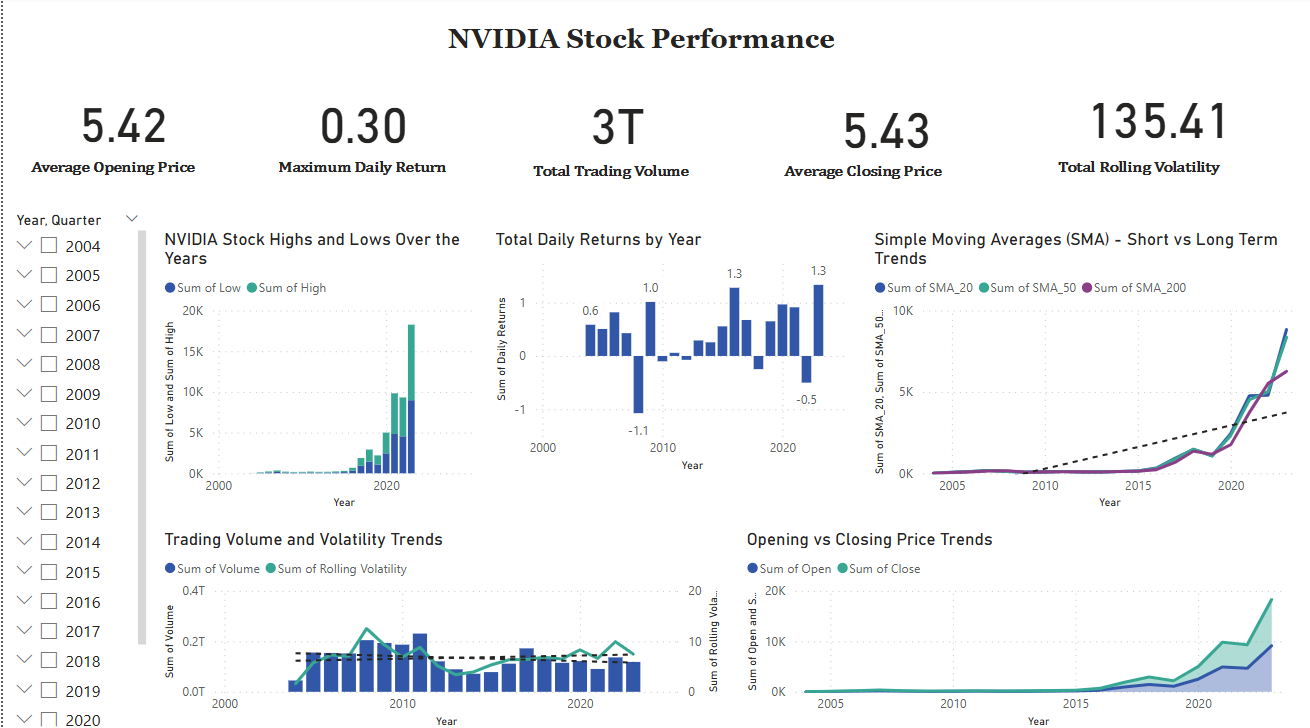

This screenshot's page, from the dashboard's own definition file:
{"tool":"powerbi","page":{"name":"Page 1","canvas":[1280,720],"ordinal":0},"visuals":[{"type":"card","fields":{"Values":["Avg(nvidia_dashboard.Close)"]},"box":[813.1,90.4,101.2,70.7],"z":0},{"type":"card","fields":{"Values":["Avg(nvidia_dashboard.Open)"]},"box":[57.3,89.6,120,62.7],"z":1000},{"type":"card","fields":{"Values":["Sum(nvidia_dashboard.Volume)"]},"box":[540,87.8,121.8,69],"z":2000},{"type":"lineChart","title":" Simple Moving Averages (SMA) - Short vs Long Term Trends","fields":{"Category":["nvidia_dashboard.Date.Variation.Date Hierarchy.Year"],"Y":["Sum(nvidia_dashboard.SMA_20)","Sum(nvidia_dashboard.SMA_50)","Sum(nvidia_dashboard.SMA_200)"]},"box":[847.2,227.5,426.3,279.4],"z":3000},{"type":"lineClusteredColumnComboChart","title":" Trading Volume and Volatility Trends","fields":{"Category":["nvidia_dashboard.Date.Variation.Date Hierarchy.Year"],"Y":["Sum(nvidia_dashboard.Volume)"],"Y2":["Sum(nvidia_dashboard.Rolling Volatility)"]},"box":[153.1,520.3,553.4,199.7],"z":4000},{"type":"stackedAreaChart","title":"Opening vs Closing Price Trends","fields":{"Category":["nvidia_dashboard.Date.Variation.Date Hierarchy.Year"],"Y":["Sum(nvidia_dashboard.Open)","Sum(nvidia_dashboard.Close)"]},"box":[722.7,520.3,536.4,199.7],"z":5000},{"type":"lineStackedColumnComboChart","title":"NVIDIA Stock Highs and Lows Over the Years","fields":{"Y":["Sum(nvidia_dashboard.Low)","Sum(nvidia_dashboard.High)"],"Category":["nvidia_dashboard.Date.Variation.Date Hierarchy.Year"]},"box":[153.1,227.5,323.3,279.4],"z":6000},{"type":"lineClusteredColumnComboChart","title":"Total  Daily Returns by Year","fields":{"Y":["Sum(nvidia_dashboard.Daily Returns)"],"Category":["nvidia_dashboard.Date.Variation.Date Hierarchy.Year"]},"box":[476.4,227.5,363.6,242.7],"z":7000},{"type":"card","fields":{"Values":["Sum(nvidia_dashboard.Rolling Volatility)"]},"box":[1047.8,82.4,165.7,69.9],"z":8000},{"type":"slicer","fields":{"Values":["nvidia_dashboard.Date.Variation.Date Hierarchy.Year","nvidia_dashboard.Date.Variation.Date Hierarchy.Quarter"]},"box":[0,206,145.1,514],"z":9000},{"type":"textbox","box":[362.7,22.4,699.4,51],"z":10000},{"type":"card","fields":{"Values":["Max(nvidia_dashboard.Daily Returns)"]},"box":[293.4,90.5,118.6,61.1],"z":11000},{"type":"textbox","box":[21.5,152.2,207.8,32.2],"z":12000},{"type":"textbox","box":[264,152.8,218.8,33],"z":13000},{"type":"textbox","box":[513.1,156.7,187.2,34],"z":14000},{"type":"textbox","box":[758.5,156.7,191.6,34.9],"z":15000},{"type":"textbox","box":[1027.2,153.1,193.4,35.8],"z":16000}]}

Visuals, with their boxes in screenshot pixels (x1, y1, x2, y2), scaled from the page's 1280x720 canvas onto the 1310x728 screenshot:
card - Avg(nvidia_dashboard.Close): box=[832, 91, 936, 163]
card - Avg(nvidia_dashboard.Open): box=[59, 91, 181, 154]
card - Sum(nvidia_dashboard.Volume): box=[553, 89, 677, 159]
" Simple Moving Averages (SMA) - Short vs Long Term Trends" lineChart: box=[867, 230, 1303, 513]
" Trading Volume and Volatility Trends" lineClusteredColumnComboChart: box=[157, 526, 723, 727]
"Opening vs Closing Price Trends" stackedAreaChart: box=[740, 526, 1289, 727]
"NVIDIA Stock Highs and Lows Over the Years" lineStackedColumnComboChart: box=[157, 230, 488, 513]
"Total  Daily Returns by Year" lineClusteredColumnComboChart: box=[488, 230, 860, 475]
card - Sum(nvidia_dashboard.Rolling Volatility): box=[1072, 83, 1242, 154]
slicer - nvidia_dashboard.Date.Variation.Date Hierarchy.Year x nvidia_dashboard.Date.Variation.Date Hierarchy.Quarter: box=[0, 208, 149, 727]
textbox: box=[371, 23, 1087, 74]
card - Max(nvidia_dashboard.Daily Returns): box=[300, 92, 422, 153]
textbox: box=[22, 154, 235, 186]
textbox: box=[270, 154, 494, 188]
textbox: box=[525, 158, 717, 193]
textbox: box=[776, 158, 972, 194]
textbox: box=[1051, 155, 1249, 191]
